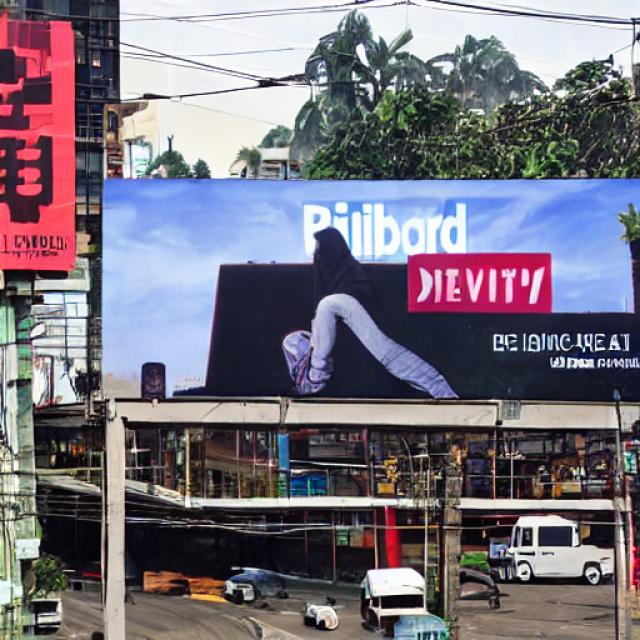Billboard: (99, 171, 640, 426)
